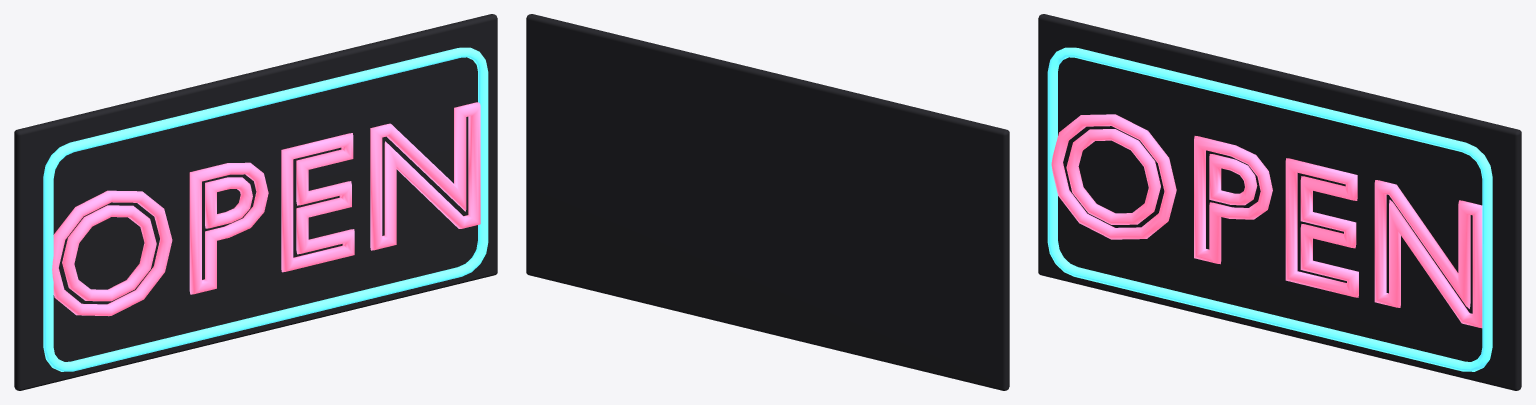
Rendered from open_sign.glb.
The picture shows the model from 3 angles, left to right: view 1: azimuth 30°, elevation 25°; view 2: azimuth 150°, elevation 25°; view 3: azimuth 330°, elevation 25°; orthographic projection.
Parts seen in each view (by area): view 1: open_sign; view 2: open_sign; view 3: open_sign.
Part boxes in pixels (x1,y1,x2,y2): open_sign: [14, 14, 497, 390]; open_sign: [526, 14, 1009, 390]; open_sign: [1038, 14, 1521, 390].
Size of the model in its own units: 0.62 by 0.32 by 0.035.
